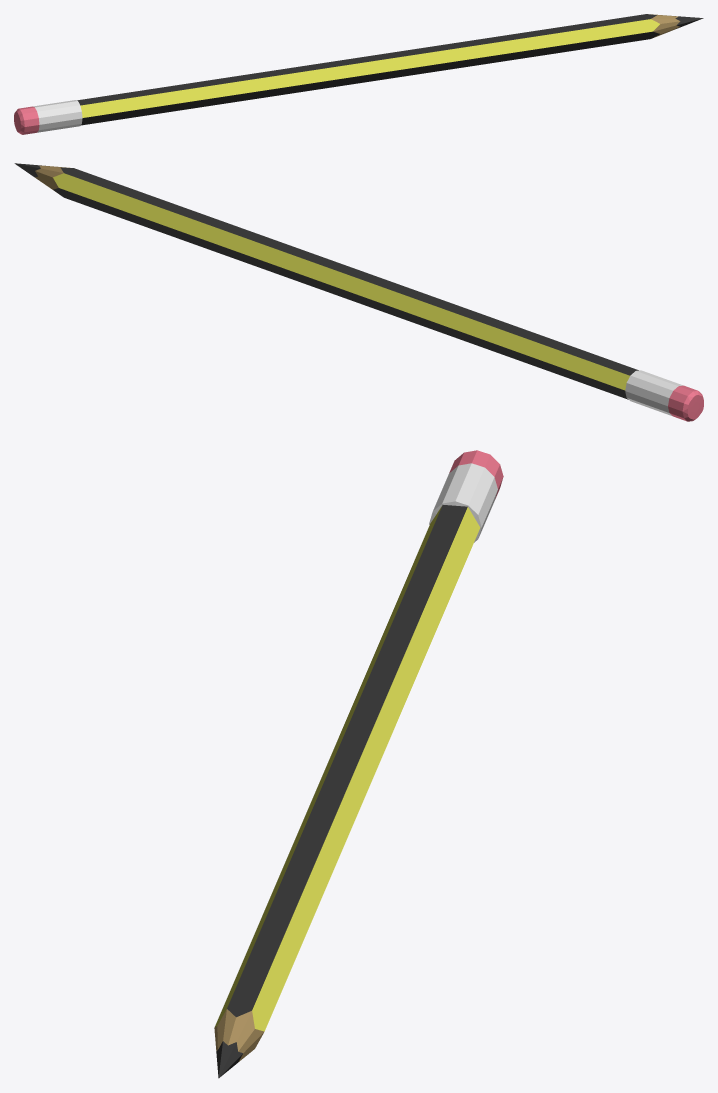
File: pencil.fbx
3 views of the same model, one above another, from view 1: azimuth 30°, elevation 25°; view 2: azimuth 150°, elevation 25°; view 3: azimuth 270°, elevation 25° (orthographic). The views are drawn at different scales.
Parts seen in each view (by area): view 1: Cylinder; view 2: Cylinder; view 3: Cylinder.
Part boxes in pixels (x1,y1,x2,y2): Cylinder: [14, 14, 703, 134]; Cylinder: [14, 163, 703, 421]; Cylinder: [214, 450, 503, 1078].
Bounding box in the file's own units: 2575 × 95.66 × 517.
